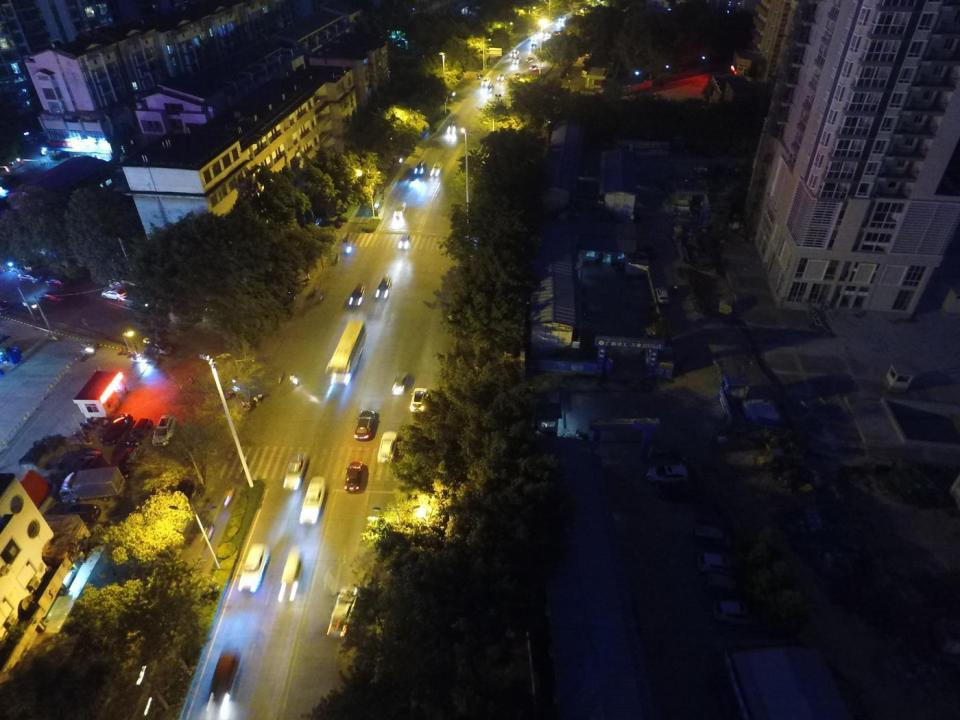bus: (324, 320, 368, 386)
car: (326, 586, 358, 637), (238, 543, 270, 593), (298, 476, 327, 524), (101, 413, 133, 445), (713, 601, 755, 624), (283, 454, 309, 490), (152, 414, 178, 447), (64, 451, 102, 473), (645, 464, 689, 482), (64, 503, 101, 524), (118, 447, 142, 479), (127, 418, 153, 447), (376, 430, 397, 463), (344, 460, 364, 494), (697, 553, 733, 571), (354, 410, 374, 442), (142, 336, 172, 355), (409, 387, 428, 413), (374, 276, 392, 300), (347, 283, 365, 307), (392, 371, 408, 396), (100, 287, 128, 301), (17, 270, 44, 283), (45, 274, 71, 286), (654, 286, 670, 304), (40, 292, 65, 303), (393, 201, 407, 219), (428, 162, 442, 178), (414, 161, 426, 176), (398, 233, 409, 249), (481, 77, 491, 86), (486, 84, 494, 93), (497, 72, 506, 80), (512, 56, 520, 64)
van: (59, 467, 126, 504), (208, 652, 242, 704), (279, 552, 304, 600), (706, 573, 743, 599), (691, 524, 731, 547)
